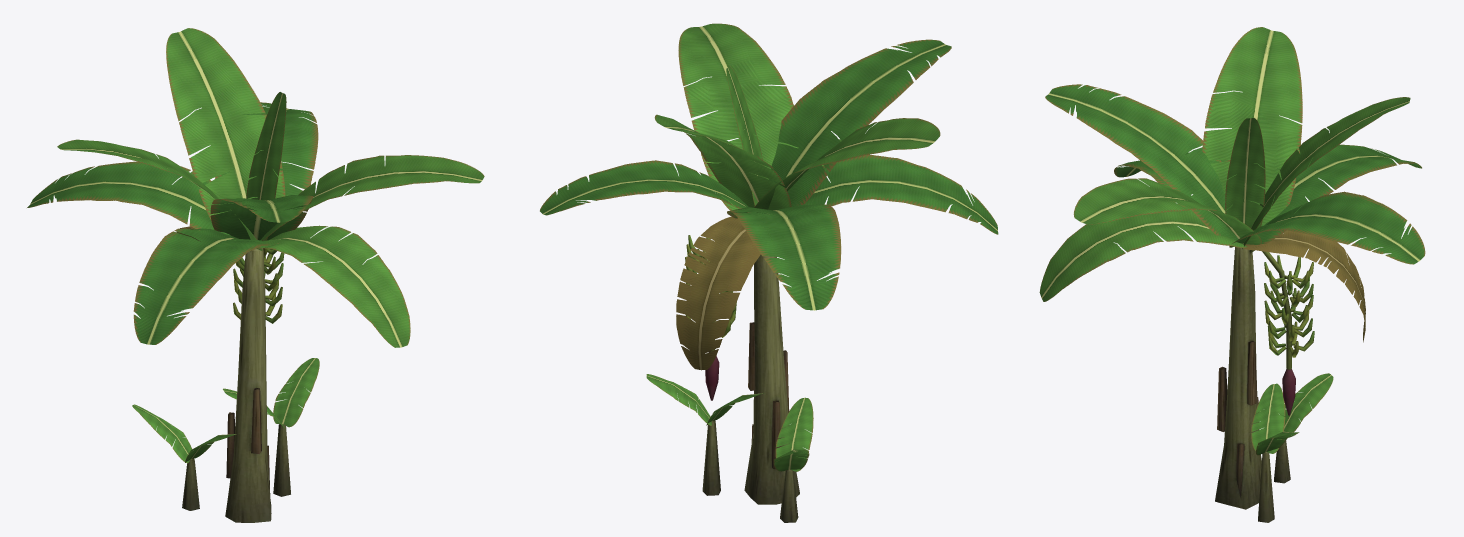
Rendered from tree_banana.glb.
The picture shows the model from 3 angles, left to right: view 1: azimuth 30°, elevation 25°; view 2: azimuth 150°, elevation 25°; view 3: azimuth 270°, elevation 25°; orthographic projection. The views are drawn at different scales.
Parts seen in each view (by area): view 1: leaves, trunk; view 2: leaves, trunk; view 3: leaves, trunk.
Boxes of the visible parts, box(x1,y1,x2,y2) form: leaves: box(27, 28, 484, 463); trunk: box(182, 247, 290, 522); leaves: box(540, 23, 998, 471); trunk: box(685, 235, 799, 522); leaves: box(1039, 27, 1425, 455); trunk: box(1215, 247, 1314, 522).
Bounding box in the file's own units: 3.34 × 3.7 × 3.42.
2 materials, 2 textured.
